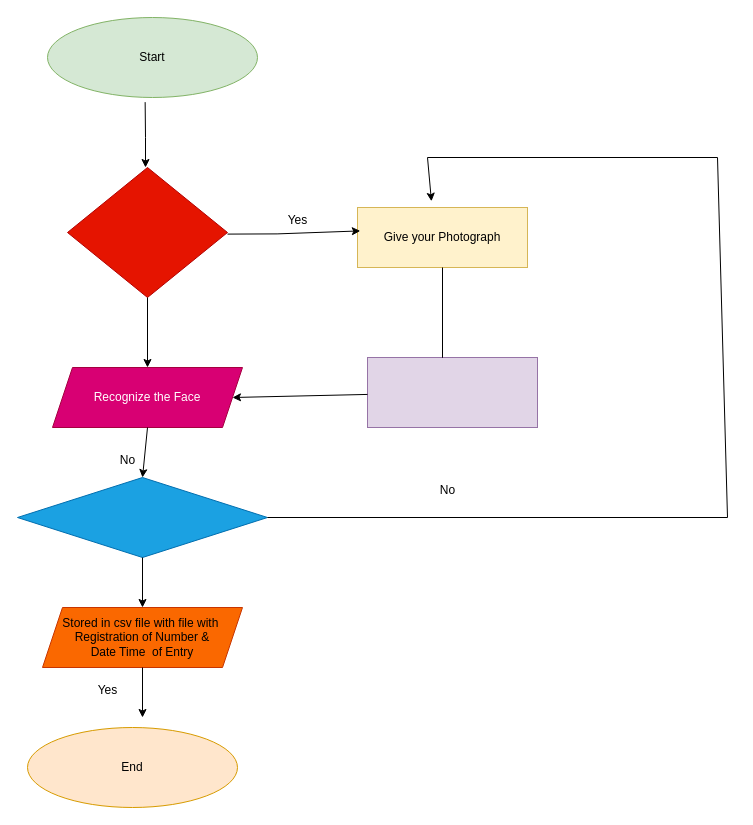
Image size: 753x825. Some labels were removed from this diagram. The centre of each missing label's shape, as x and y in pixels:
"Face Recognitation" goes at (x=142, y=517).
"New User ?" goes at (x=147, y=232).
"Store the Face Data in Folder on your name" goes at (x=452, y=392).
